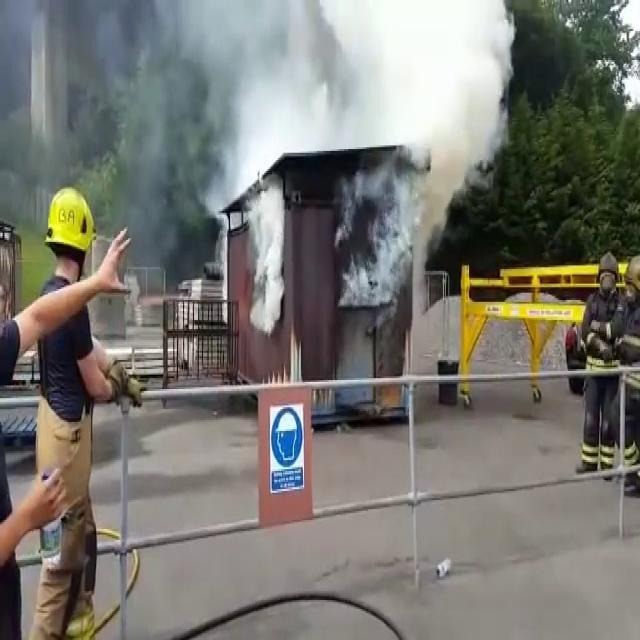Smoke: (182, 0, 492, 278)
